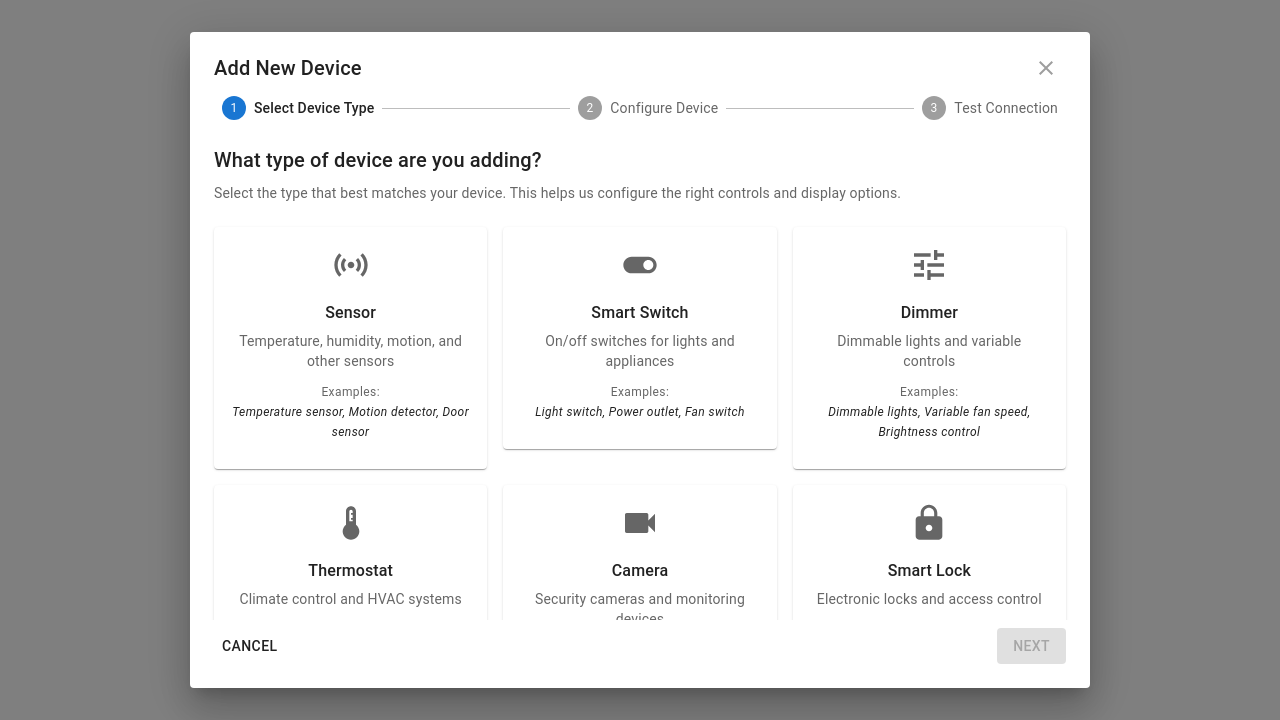
Test: AddDeviceWizard › progresses through wizard steps
The width and height of the screenshot is (1280, 720).
Click the text "Sensor": (351, 348) x1=216 y1=229 x2=485 y2=467
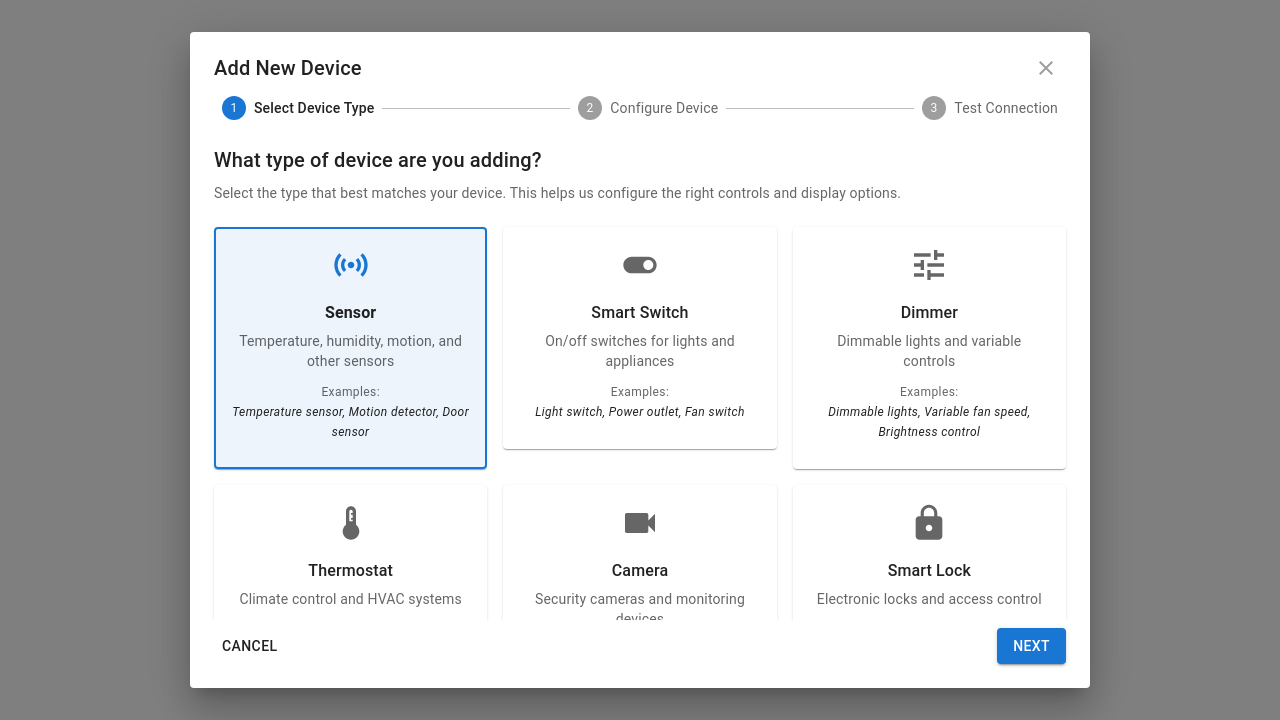
Click the button "Next": (1032, 646) x1=997 y1=628 x2=1066 y2=664
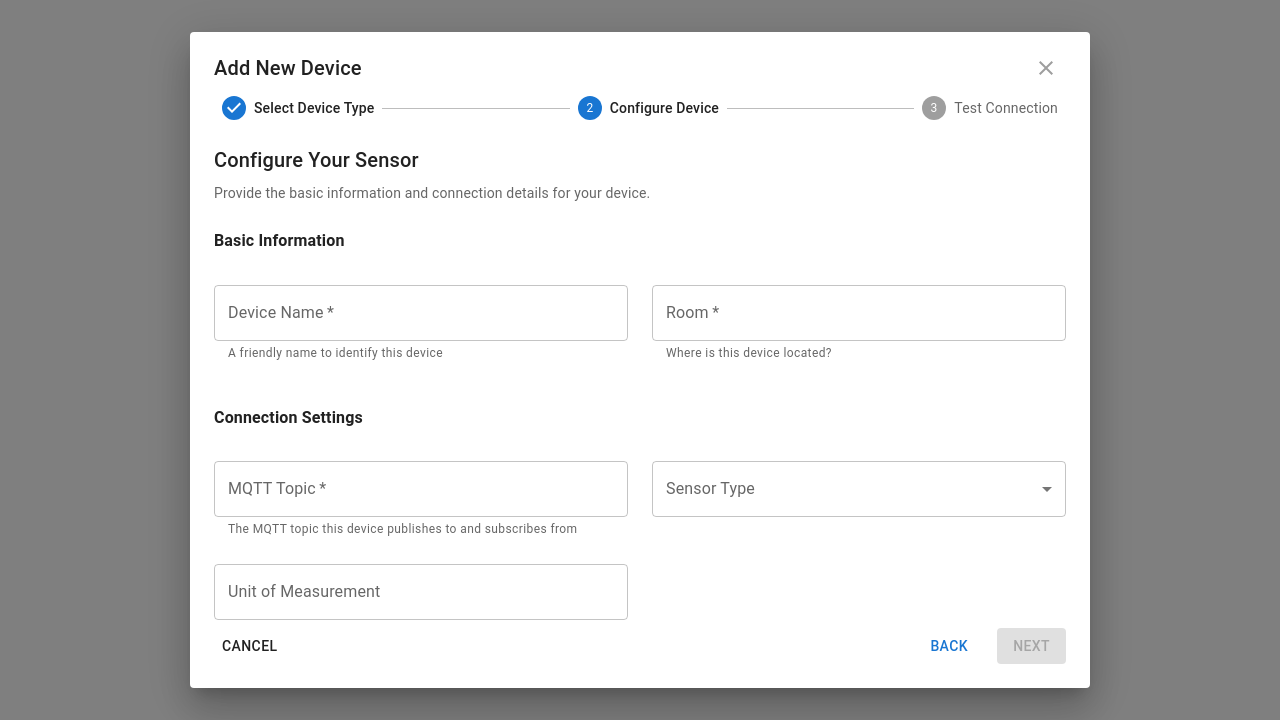
Result: the heading "Configure Your Sensor" is shown at x1=214 y1=148 x2=419 y2=172
